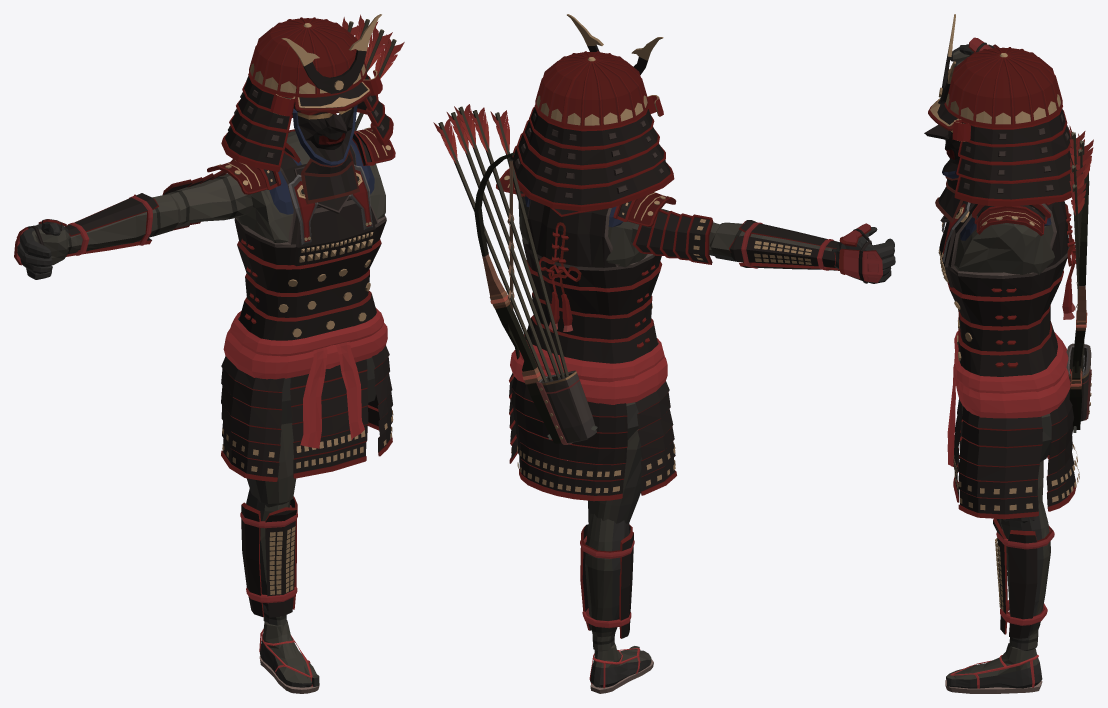
The model's file is samuraiArmorFemale.glb.
The picture shows the model from 3 angles, left to right: view 1: azimuth 30°, elevation 25°; view 2: azimuth 150°, elevation 25°; view 3: azimuth 270°, elevation 25°; orthographic projection. The views are drawn at different scales.
Visible parts, largest first — view 1: samuraiArmorBody, samuraiArmorHelmet, samuraiArmorLowerLeg, samuraiArmorLowerArm, samuraiArmorBodyShirt, samuraiArmorUpperArm.001, samuraiArmorFoot, samuraiGlove, samuraiPants, samuraiArmorBody.002, samuraiQuiver, samuraiArmorBody.001; view 2: samuraiArmorBody, samuraiArmorHelmet, samuraiQuiver, samuraiArmorLowerLeg, samuraiArmorLowerArm, samuraiArmorUpperArm.001, samuraiGlove, samuraiArmorFoot, samuraiPants, samuraiArmorBodyShirt, samuraiArmorBody.003; view 3: samuraiArmorBody, samuraiArmorHelmet, samuraiArmorLowerLeg, samuraiQuiver, samuraiArmorBodyShirt, samuraiArmorFoot, samuraiGlove, samuraiArmorBody.002, samuraiArmorBody.004, samuraiPants, samuraiArmorBody.003.
Part boxes in pixels (box(x1,y1,x2,y2)): samuraiArmorBody: box(207, 111, 395, 481); samuraiArmorHelmet: box(221, 14, 393, 204); samuraiArmorLowerLeg: box(240, 489, 297, 626); samuraiArmorLowerArm: box(65, 193, 180, 256); samuraiArmorBodyShirt: box(236, 131, 385, 424); samuraiArmorUpperArm.001: box(162, 170, 252, 230); samuraiArmorFoot: box(259, 620, 319, 693); samuraiGlove: box(14, 219, 69, 279); samuraiPants: box(246, 423, 296, 507); samuraiArmorBody.002: box(288, 164, 372, 245); samuraiQuiver: box(342, 14, 404, 130); samuraiArmorBody.001: box(278, 259, 371, 337); samuraiArmorBody: box(496, 168, 676, 501); samuraiArmorHelmet: box(512, 14, 674, 211); samuraiQuiver: box(433, 104, 597, 444); samuraiArmorLowerLeg: box(580, 513, 634, 651); samuraiArmorLowerArm: box(709, 220, 839, 270); samuraiArmorUpperArm.001: box(631, 208, 720, 264); samuraiGlove: box(832, 223, 895, 283); samuraiArmorFoot: box(589, 643, 653, 693); samuraiPants: box(588, 429, 642, 523); samuraiArmorBodyShirt: box(513, 196, 647, 439); samuraiArmorBody.003: box(517, 445, 621, 493); samuraiArmorBody: box(938, 201, 1076, 519); samuraiArmorHelmet: box(924, 14, 1072, 222); samuraiArmorLowerLeg: box(993, 500, 1054, 650); samuraiQuiver: box(1066, 125, 1093, 432); samuraiArmorBodyShirt: box(954, 207, 1054, 461); samuraiArmorFoot: box(945, 643, 1042, 693); samuraiGlove: box(950, 37, 999, 67); samuraiArmorBody.002: box(941, 201, 970, 262); samuraiArmorBody.004: box(958, 481, 1032, 510); samuraiPants: box(1002, 460, 1043, 522); samuraiArmorBody.003: box(1051, 444, 1079, 502).
Bounding box in the file's own units: 1.35 × 1.97 × 0.458.
